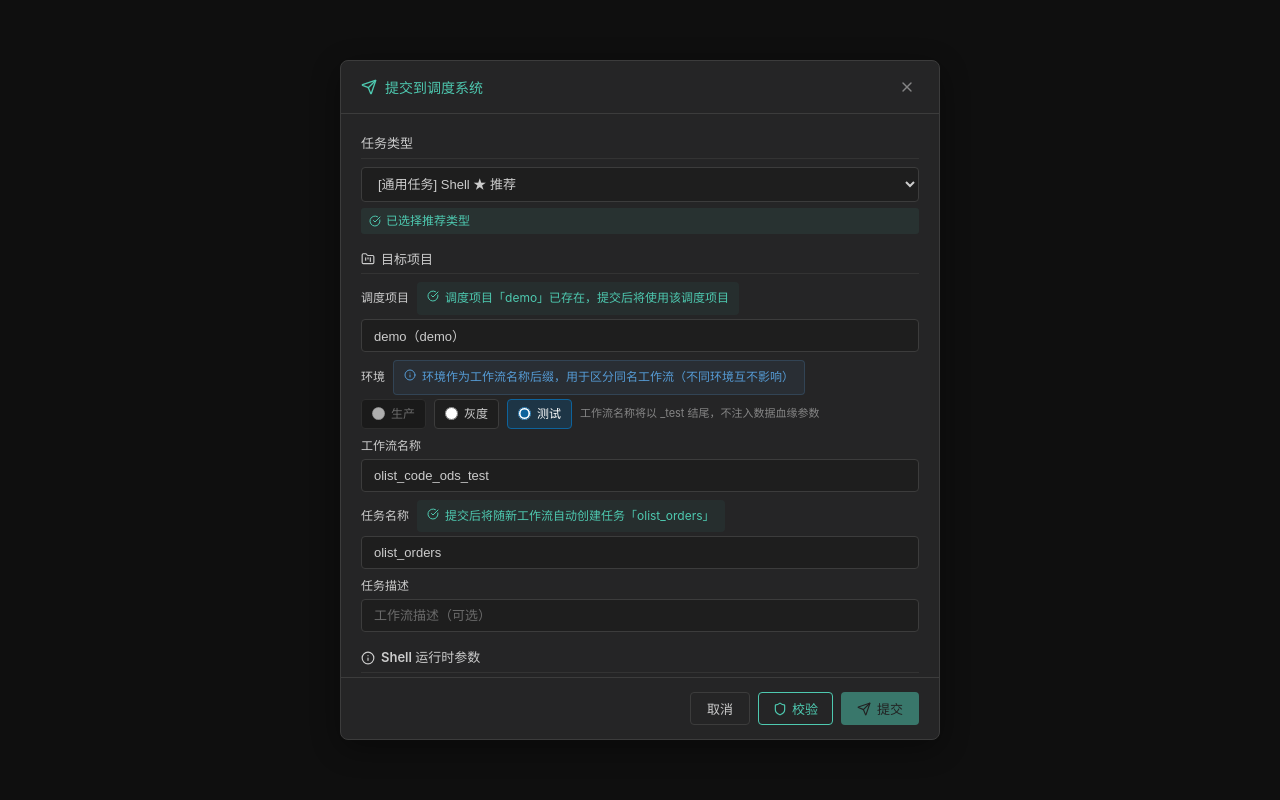
SubmitToSchedulerModal — 角色准入（生产仅运维/超管） › 数据开发工程师（无生产权限）在测试/灰度环境照常校验通过
The width and height of the screenshot is (1280, 800).
Expected: the field with test id "submit-scheduler-workflow-name" holds "olist_code_ods_test", [361,459,919,492]
Press the mouse on the button "校验" at (796, 708), box [758,692,833,725]
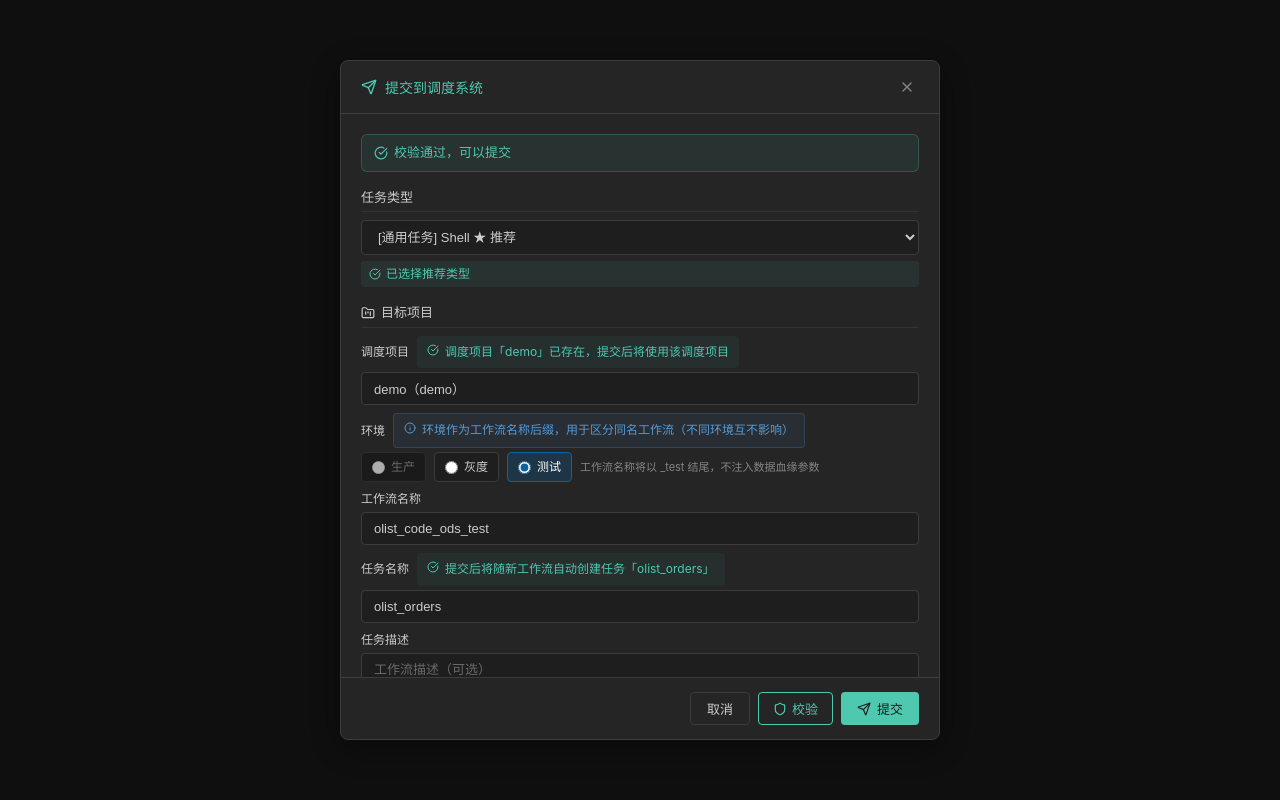
Now the text "校验通过" is shown, box [394,144,511,160]
Now the button with class "submit-scheduler__submit-btn" is enabled, box [841,692,919,725]
// 灰度同样可提交（名称换成 _gray 后缀后再次校验仍通过）
Click the radio button labelled "灰度" at (452, 467), box [445,461,458,474]
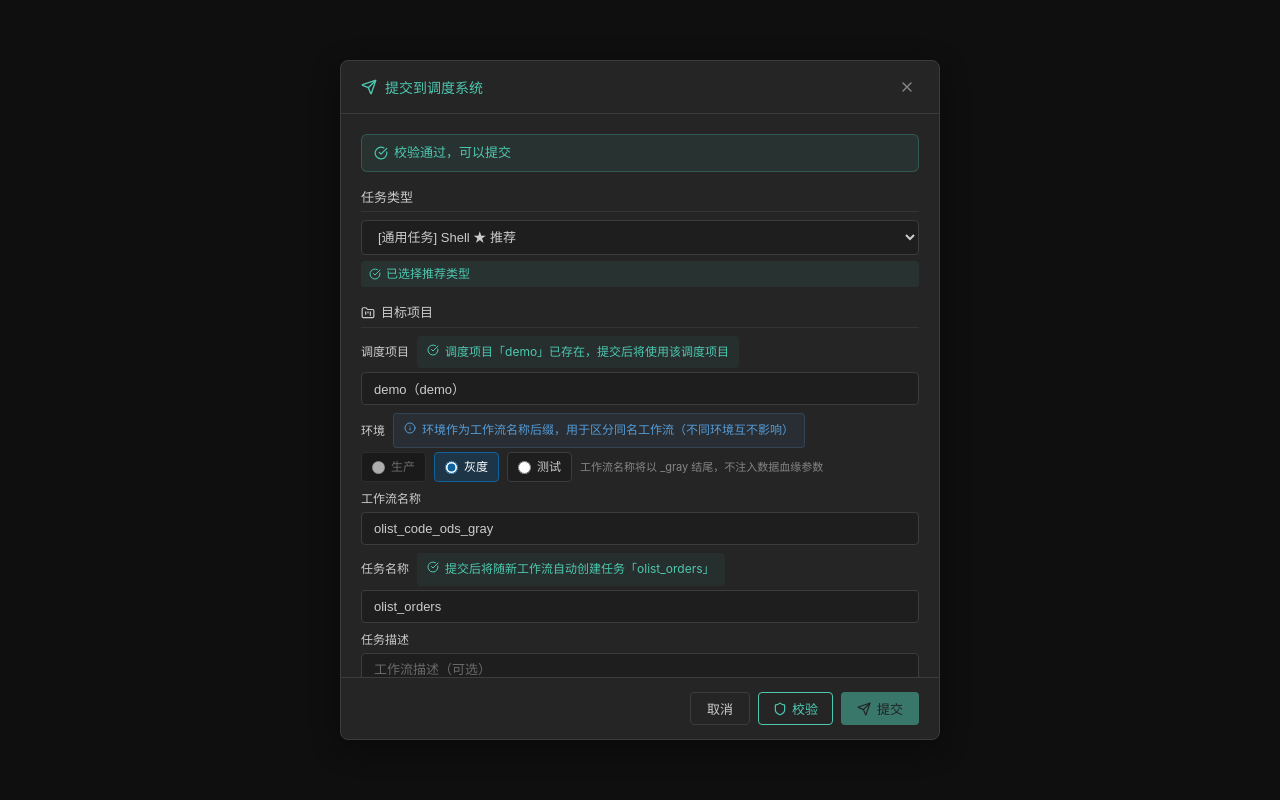
Now the field with test id "submit-scheduler-workflow-name" holds "olist_code_ods_gray", box [361,512,919,545]
Press the mouse on the button "校验" at (796, 708), box [758,692,833,725]
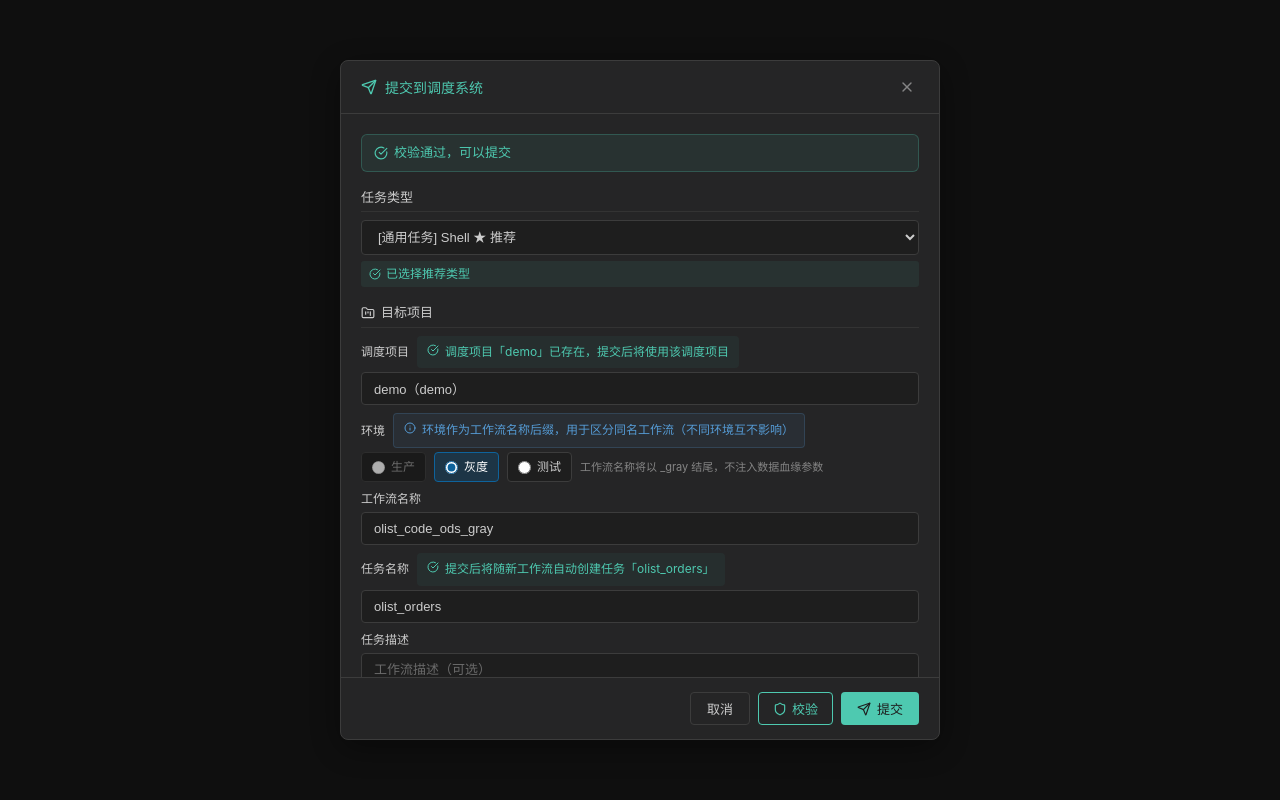
Now the text "校验通过" is shown, box [394,144,511,160]
Now the button with class "submit-scheduler__submit-btn" is enabled, box [841,692,919,725]
